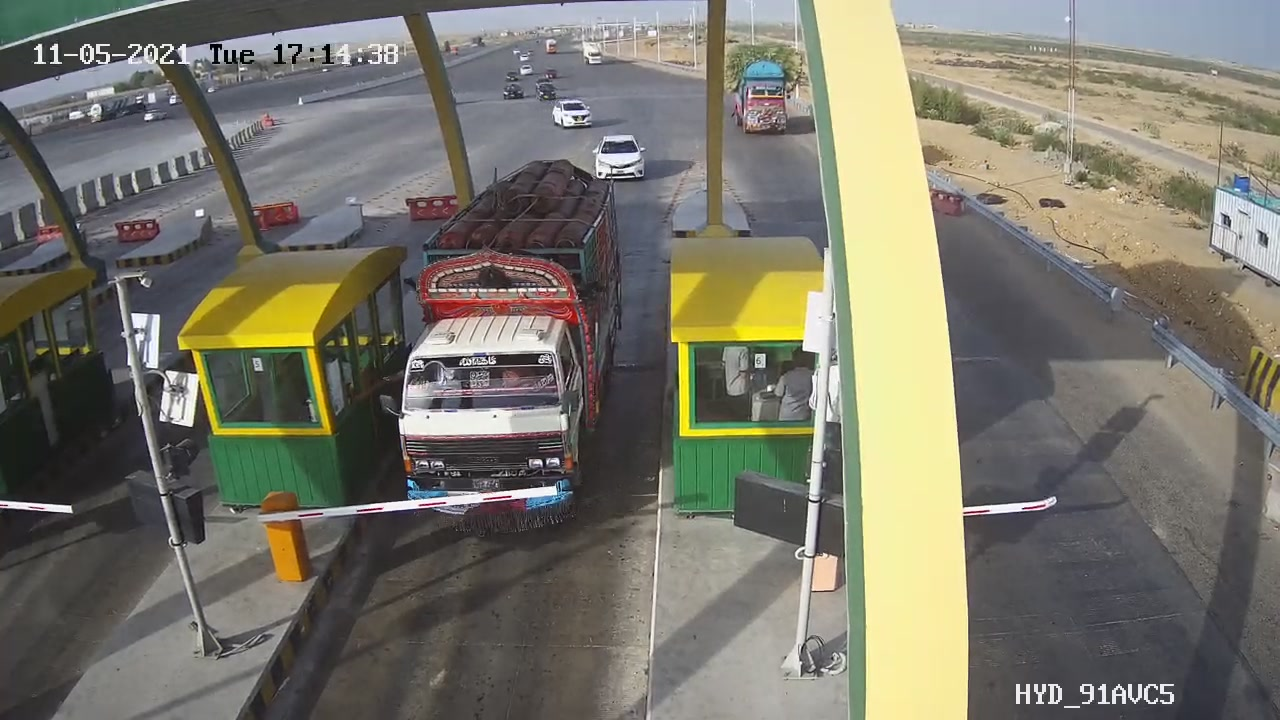F5: (364, 152, 644, 557)
